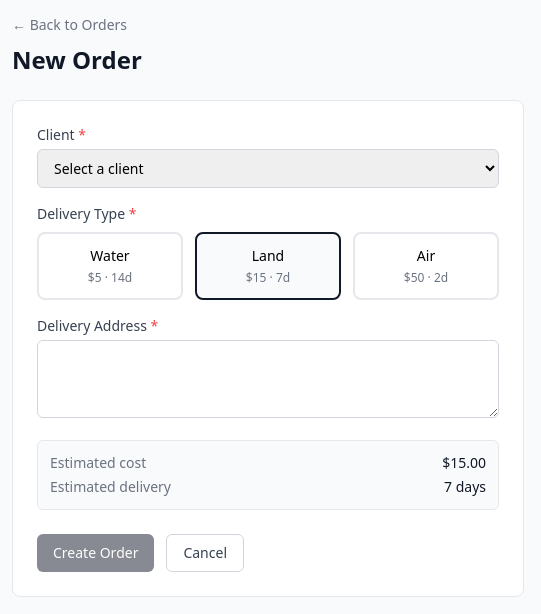
it: OrderForm › shows cost summary that updates with delivery type
This screenshot has width=541, height=614.
Expected: the text "$15.00" is shown, top-left (442, 453), bottom-right (486, 473)
Expected: the text "7 days" is shown, top-left (444, 477), bottom-right (486, 497)
Step 1. Click the text "Air" → point(426, 256), box top-left (417, 246), bottom-right (435, 265)
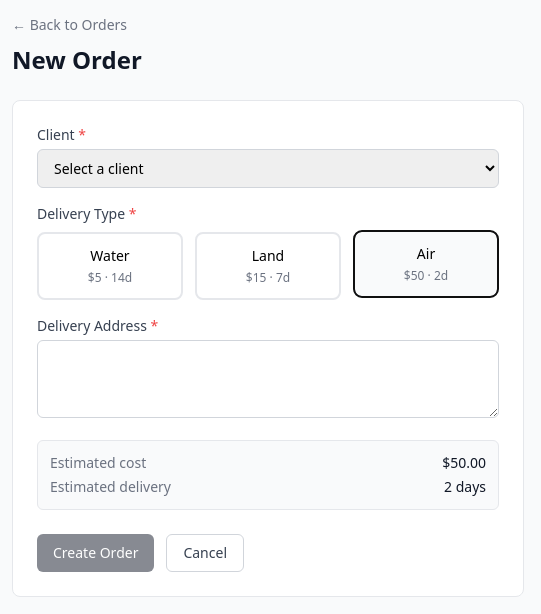
Expected: the text "$50.00" is shown, top-left (442, 453), bottom-right (486, 473)
Expected: the text "2 days" is shown, top-left (444, 477), bottom-right (486, 497)
